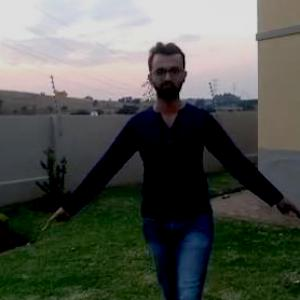land: (64, 50, 280, 299)
